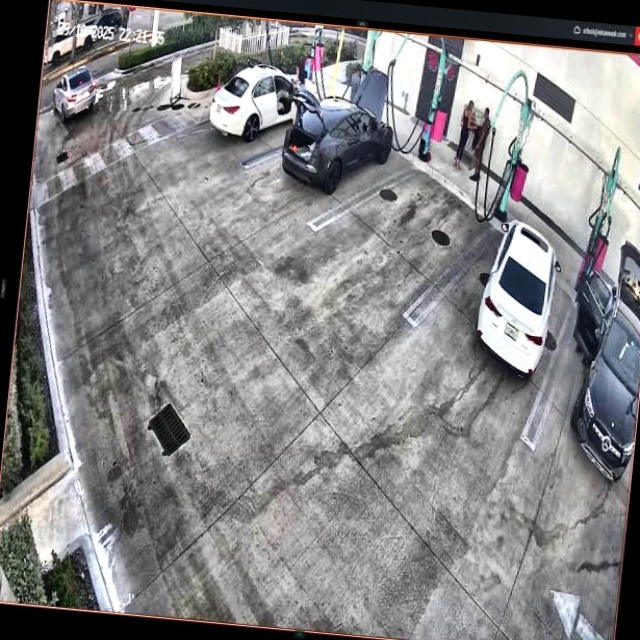Car: (280, 65, 398, 204), (472, 212, 565, 379), (210, 59, 321, 148)
